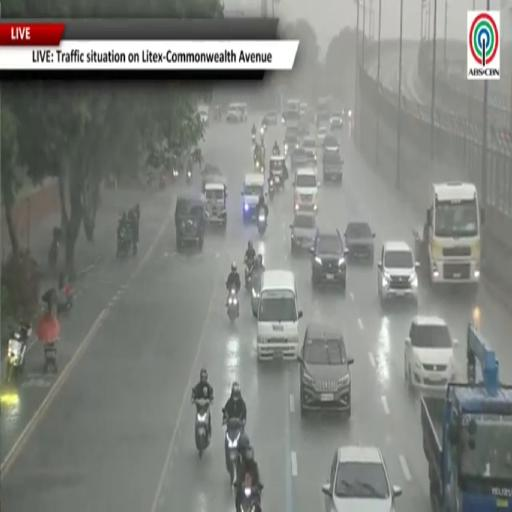car: (322, 445, 402, 511), (298, 324, 353, 417), (405, 316, 457, 393), (378, 242, 419, 305), (310, 230, 348, 291), (175, 192, 206, 250), (345, 222, 375, 264), (204, 179, 227, 229), (294, 167, 319, 213), (242, 173, 264, 222), (291, 214, 317, 253), (322, 152, 343, 183), (251, 268, 263, 317), (270, 156, 287, 188), (202, 164, 223, 187), (301, 137, 317, 162), (291, 148, 306, 172), (284, 132, 299, 155), (226, 104, 242, 123), (323, 134, 339, 152), (232, 103, 247, 121), (282, 110, 299, 125), (316, 110, 330, 127), (330, 111, 342, 130), (316, 126, 327, 146), (262, 111, 277, 125), (301, 136, 316, 150), (304, 149, 316, 165), (198, 106, 208, 125), (298, 120, 309, 136), (285, 125, 299, 135), (300, 103, 308, 117)
motorcycle: (6, 325, 31, 383), (224, 419, 243, 484), (194, 398, 210, 458), (48, 227, 62, 270), (241, 486, 263, 511), (117, 224, 133, 258), (57, 283, 74, 314), (227, 288, 239, 323), (44, 342, 57, 374), (245, 261, 254, 290), (258, 208, 267, 235), (268, 179, 275, 200), (159, 173, 167, 190), (171, 168, 179, 182), (186, 170, 192, 184), (273, 148, 280, 156), (252, 133, 255, 144)
truck: (421, 324, 511, 511), (414, 182, 484, 290)
